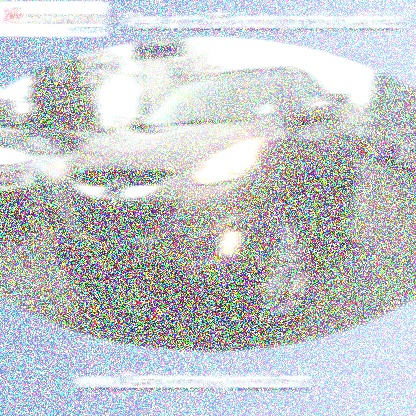Vehicle: (51, 64, 359, 330)
